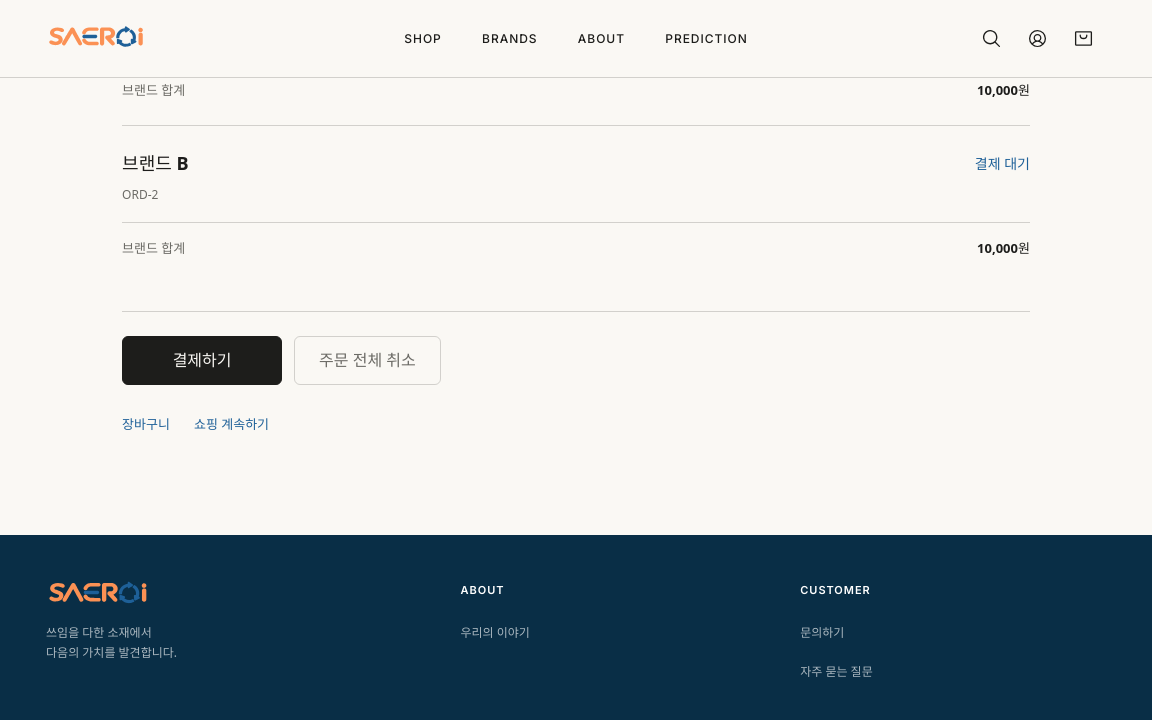
Test: order group checkout › removes payment actions when the latest read says the order disappeared
(page scrolled)
Click the button "결제하기": [202, 360] box [122,336,282,385]
(page scrolled)
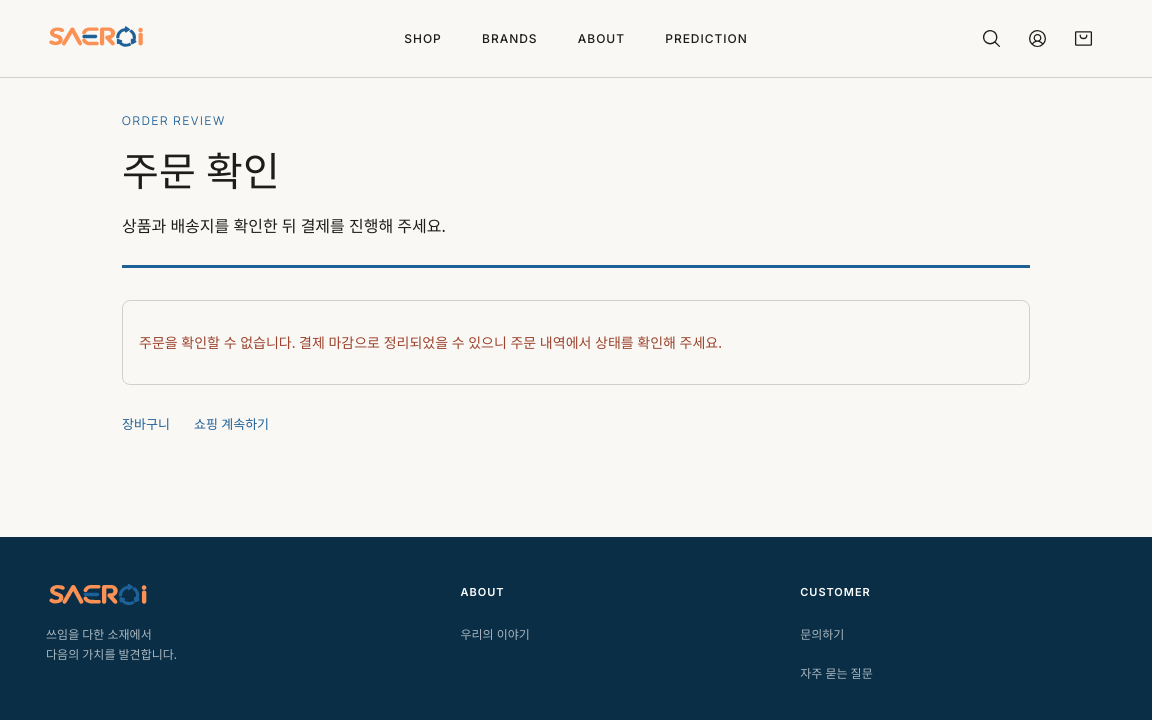
Expected: the text "주문을 확인할 수 없습니다. 결제 마감으로 정리되었을 수 있으니 주문 내역에서 상태를 확인해 주세요." is shown, [139,333,722,352]
Expected: the button "결제하기" is gone
